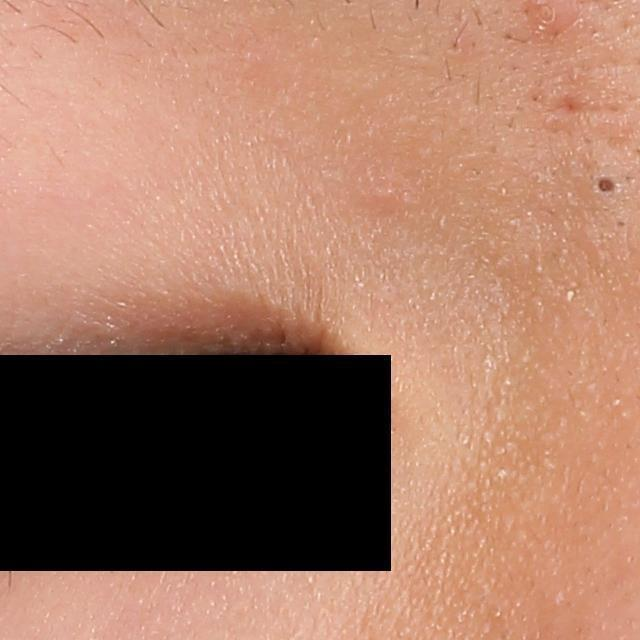papule: (527, 5, 561, 30)
